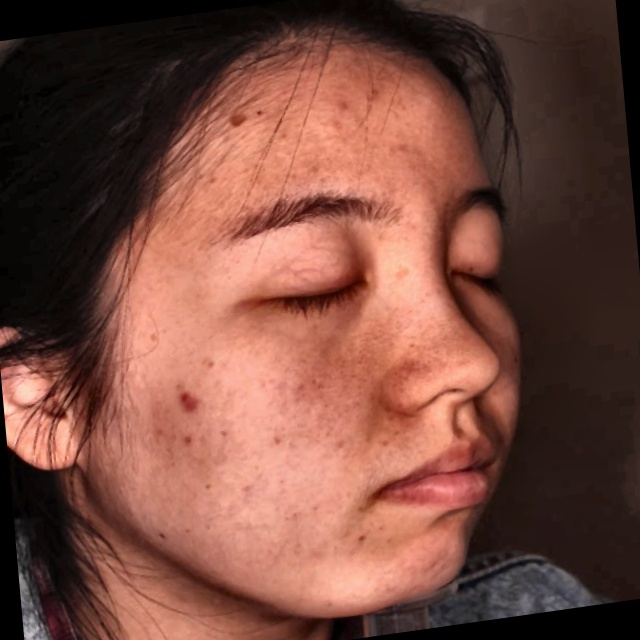comedone: (175, 386, 206, 422)
